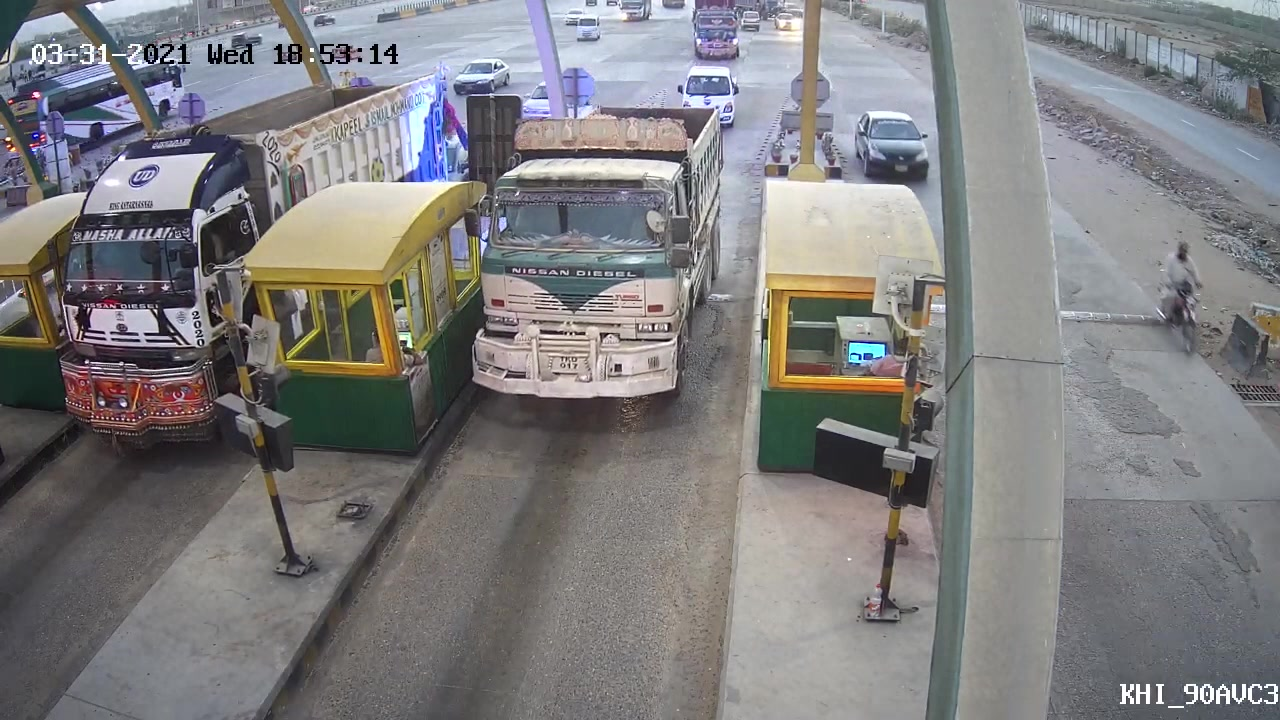F5: (466, 100, 735, 408)
